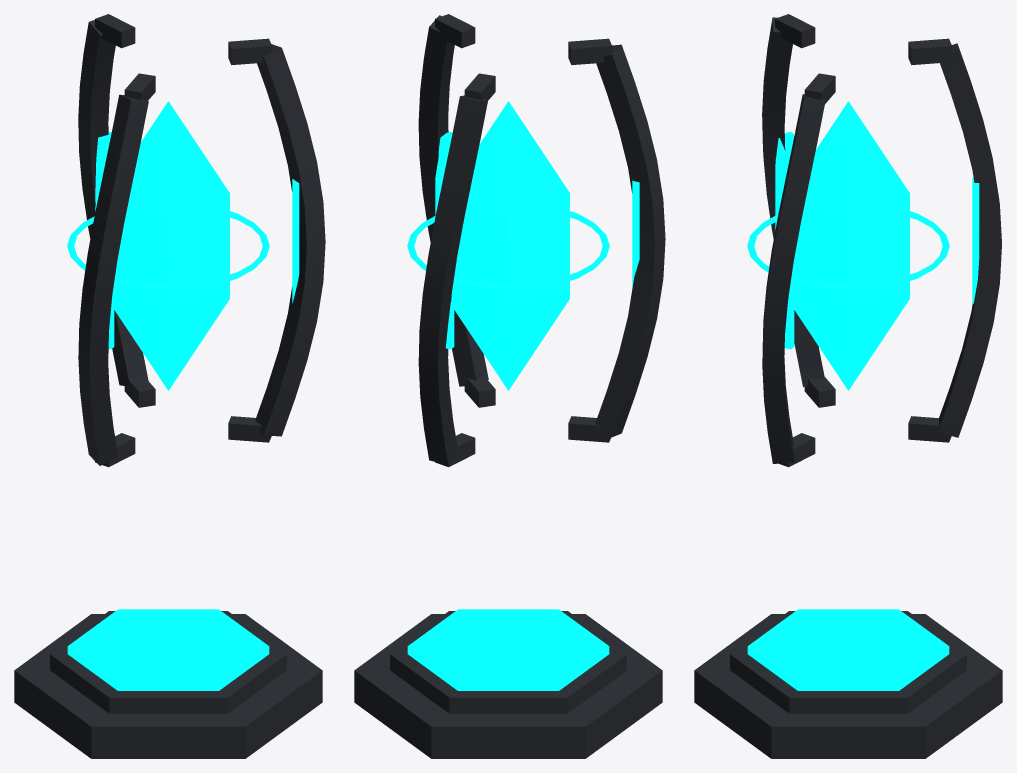
The model's file is pickup_shield.glb.
The picture shows the model from 3 angles, left to right: view 1: azimuth 30°, elevation 25°; view 2: azimuth 150°, elevation 25°; view 3: azimuth 270°, elevation 25°; orthographic projection.
Visible parts, largest first — view 1: Core, Base; view 2: Core, Base; view 3: Core, Base.
Part boxes in pixels (x1=…): Core: x1=67, y1=14, x2=325, y2=467; Base: x1=14, y1=609, x2=322, y2=758; Core: x1=407, y1=14, x2=665, y2=467; Base: x1=354, y1=609, x2=662, y2=758; Core: x1=747, y1=14, x2=1001, y2=467; Base: x1=694, y1=609, x2=1002, y2=758.
Bounding box in the file's own units: 0.4551 × 1.22 × 0.52.
